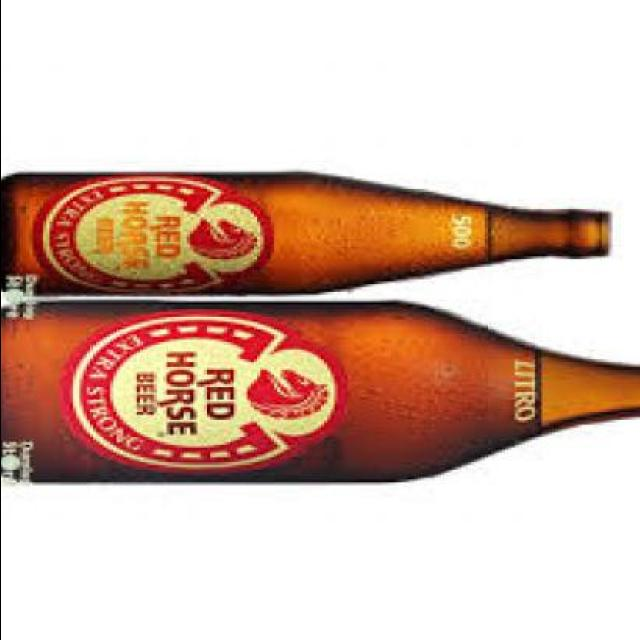kaca: (2, 299, 640, 482), (1, 174, 612, 292)
